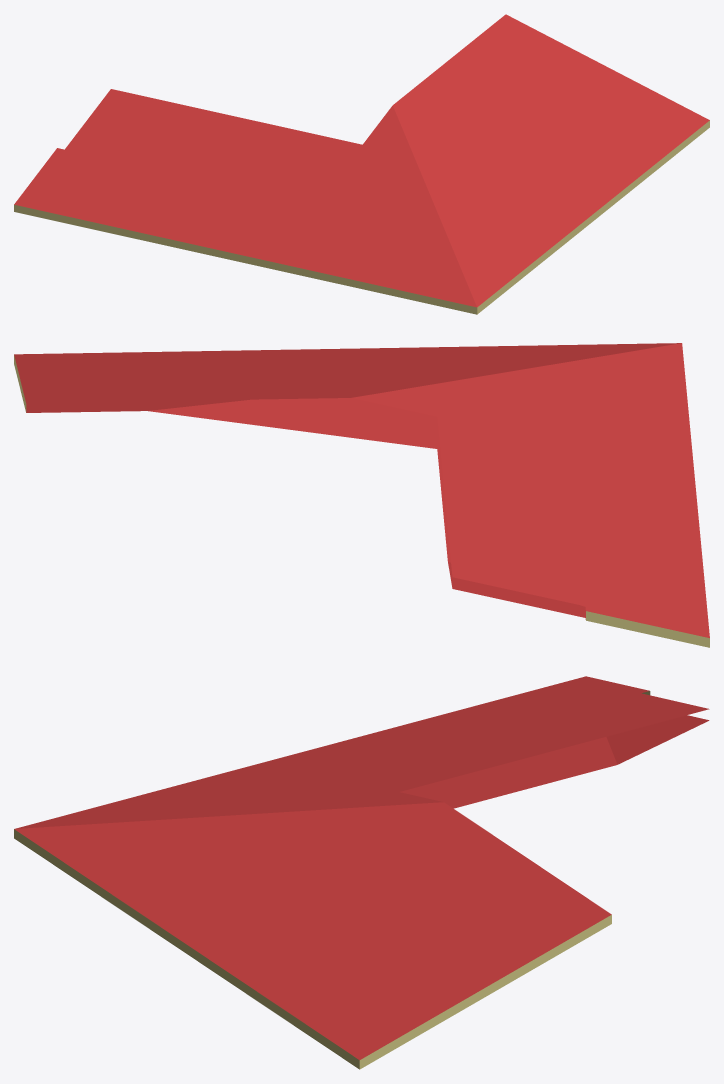
3 views of the same model, one above another, from view 1: azimuth 30°, elevation 25°; view 2: azimuth 150°, elevation 25°; view 3: azimuth 270°, elevation 25° (orthographic). The views are drawn at different scales.
Bounding box in the file's own units: 8.8 × 6.74 × 0.938.
